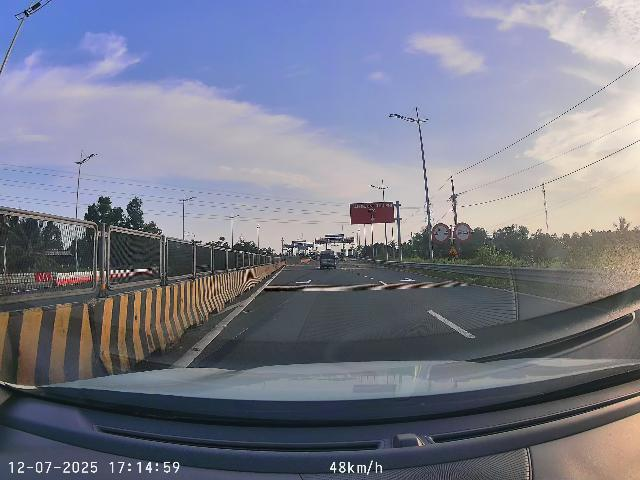125-cam-vuot: (454, 222, 472, 243)
